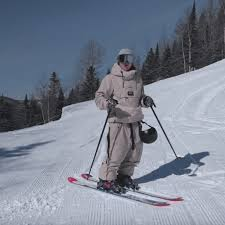skier: (67, 47, 191, 208)
